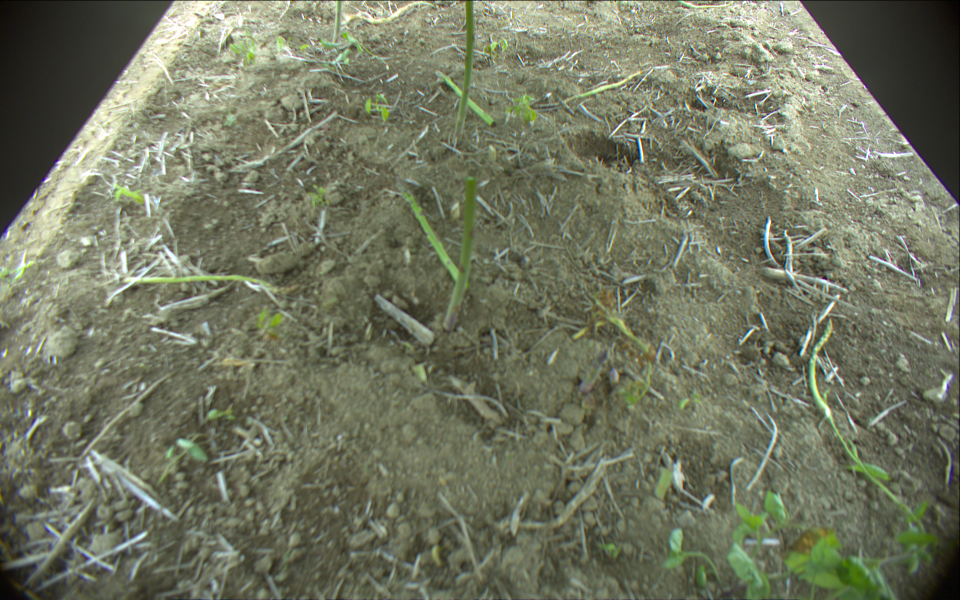aspa: (402, 186, 469, 287), (441, 177, 479, 332), (437, 72, 496, 128), (808, 318, 840, 421), (454, 1, 476, 139), (562, 69, 643, 104), (121, 273, 273, 289), (332, 1, 343, 45)
